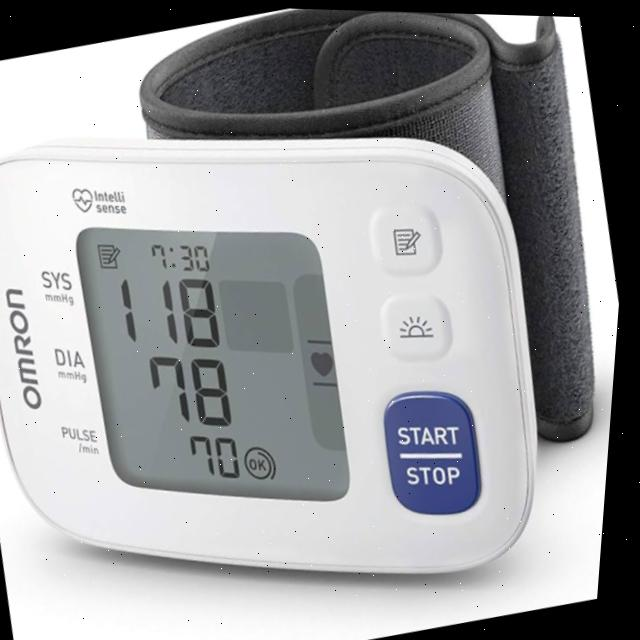dia: (141, 350, 248, 428)
pul: (187, 430, 254, 480)
ssd: (82, 196, 355, 525)
sys: (115, 272, 239, 351)
